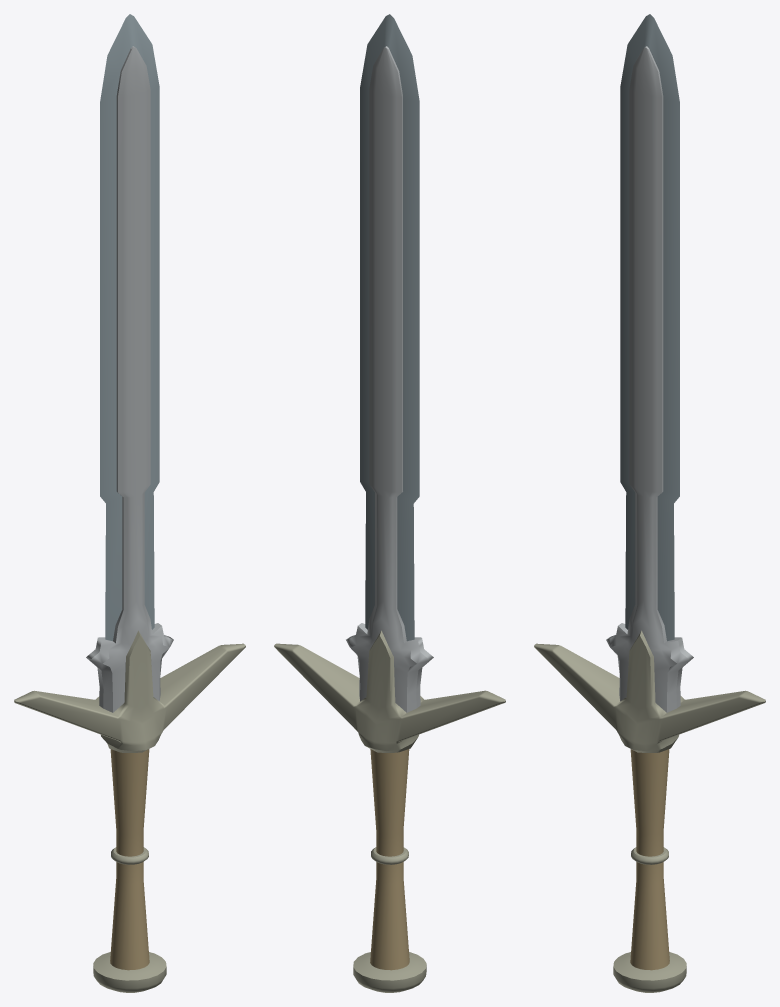
File: Sword.fbx
3 renders of one model, left to right at view 1: azimuth 30°, elevation 25°; view 2: azimuth 150°, elevation 25°; view 3: azimuth 330°, elevation 25°, orthographic.
Visible parts, largest first — view 1: pCylinder4; view 2: pCylinder4; view 3: pCylinder4.
Boxes of the visible parts, x1,y1,x2,y2 form: pCylinder4: [14, 14, 245, 992]; pCylinder4: [274, 14, 505, 992]; pCylinder4: [534, 14, 765, 992].
Bounding box in the file's own units: 5.32 × 21.37 × 1.48.
